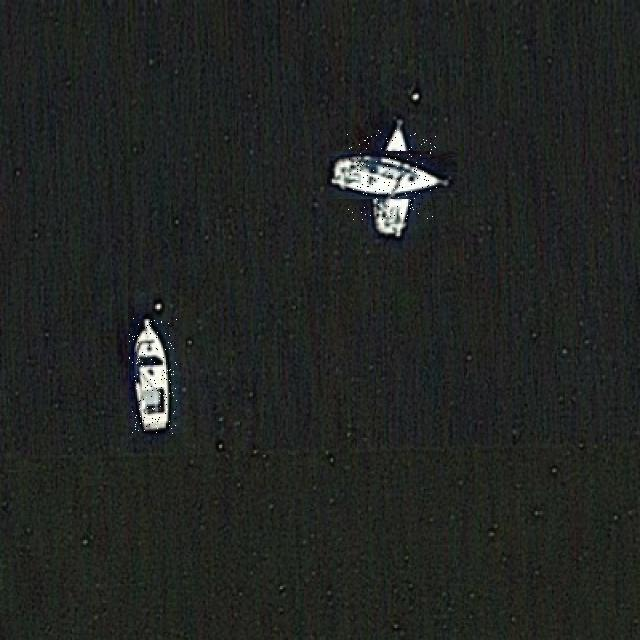boat: (347, 130, 437, 220), (130, 316, 178, 434)
